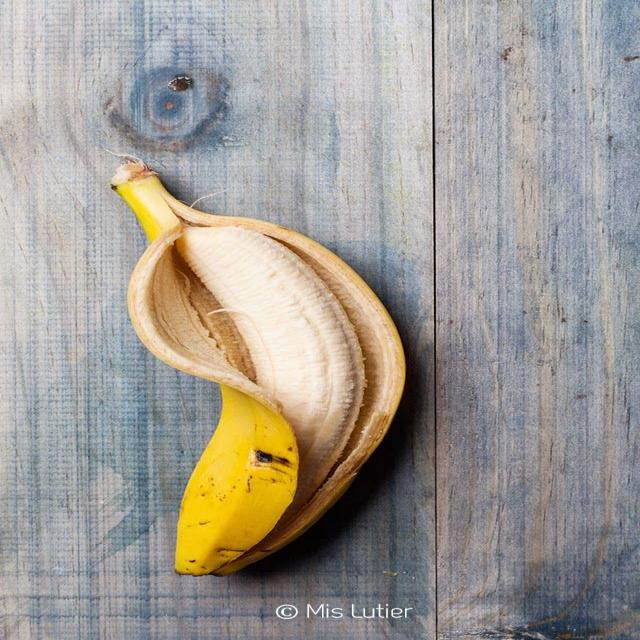banana: (112, 163, 403, 574), (177, 227, 363, 508), (175, 386, 297, 575)
